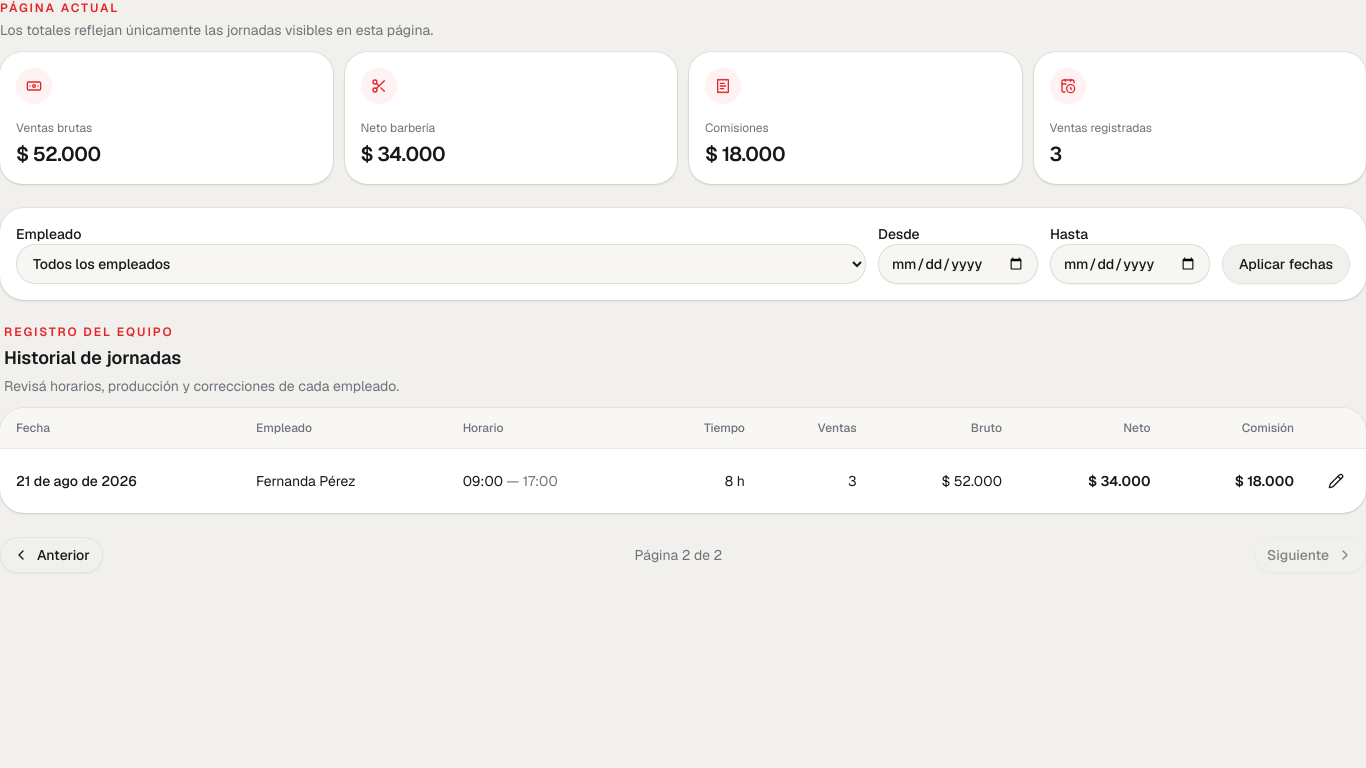
Test: falls back to the last valid page when correction contracts pagination
Click the button named "corregir jornada de fernanda pérez" at (1336, 481), box x1=1318 y1=463 x2=1354 y2=499
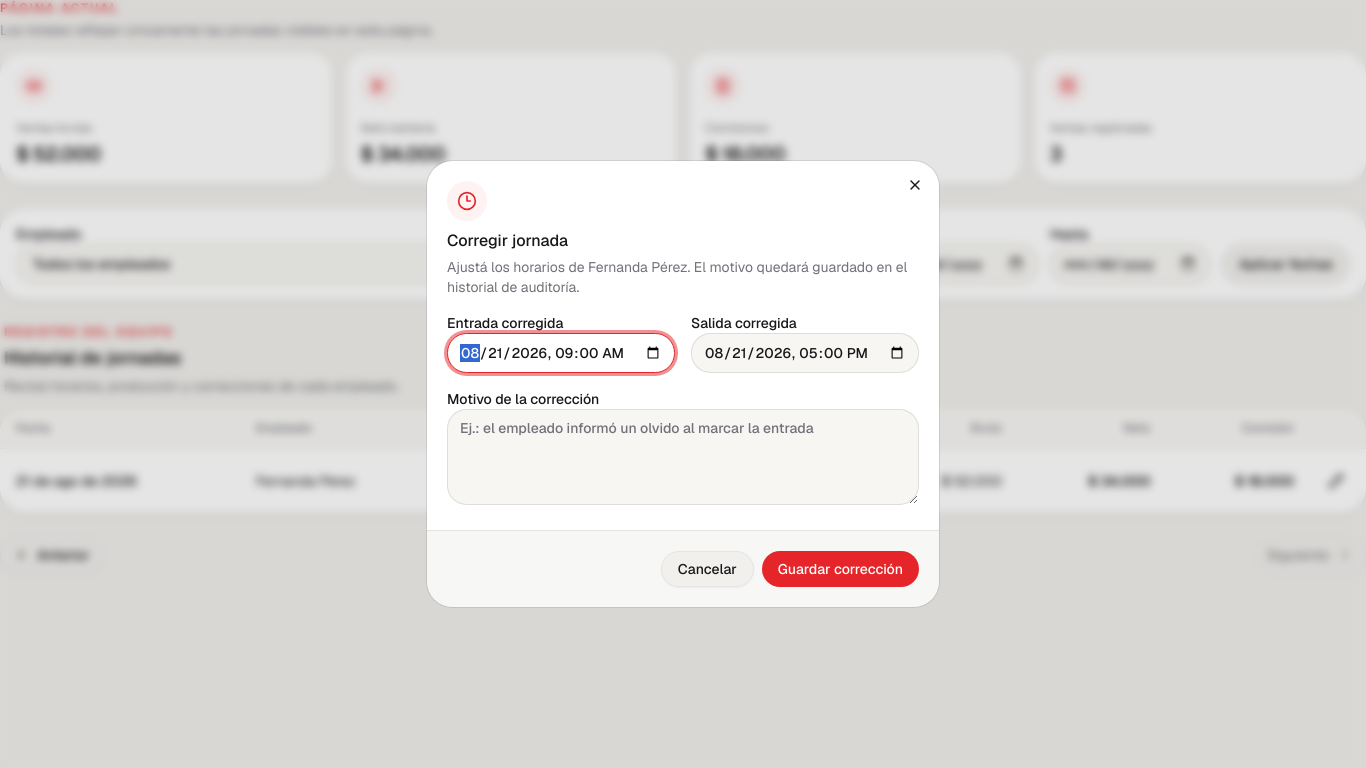
Type "La jornada cambió de fecha" into the text box labelled "Motivo de la corrección" at (683, 457), box x1=447 y1=409 x2=919 y2=505
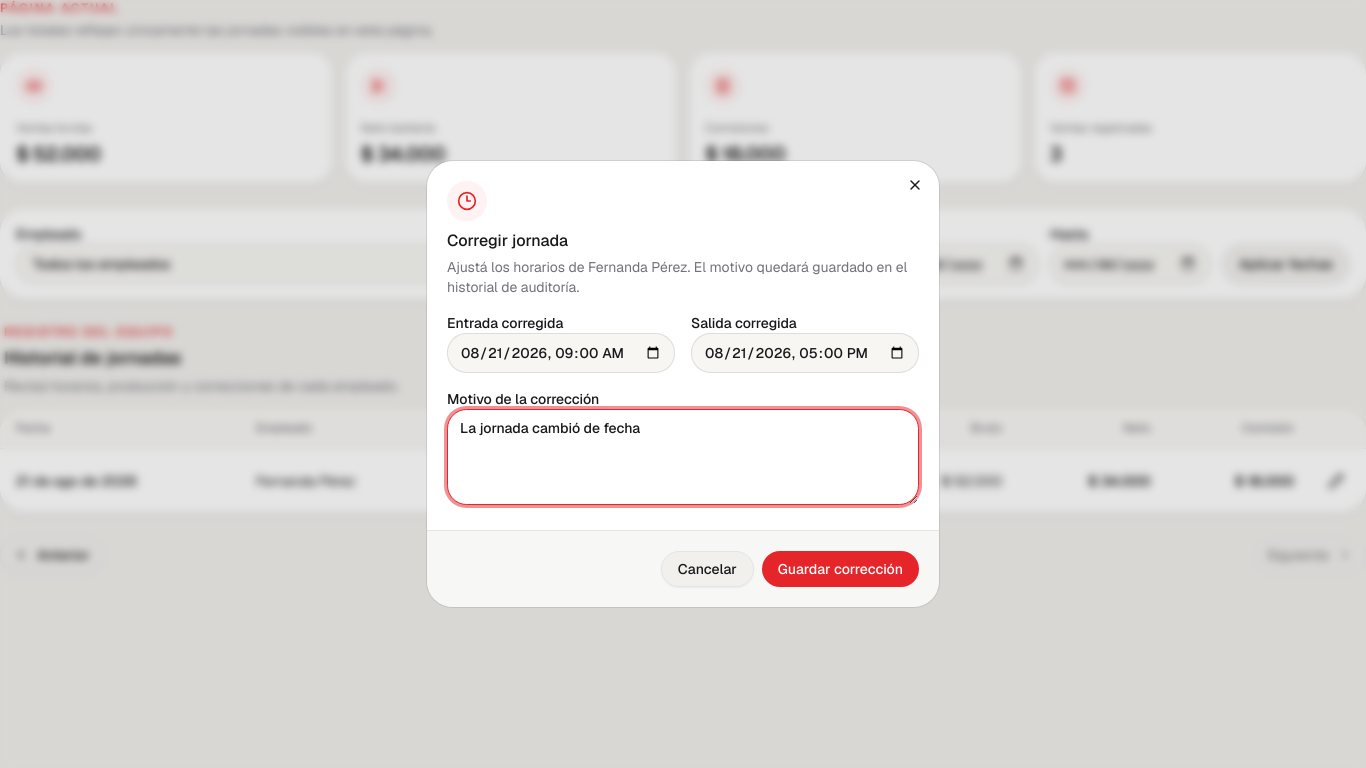
Click the button "Guardar corrección" at (840, 569), box x1=762 y1=551 x2=919 y2=587
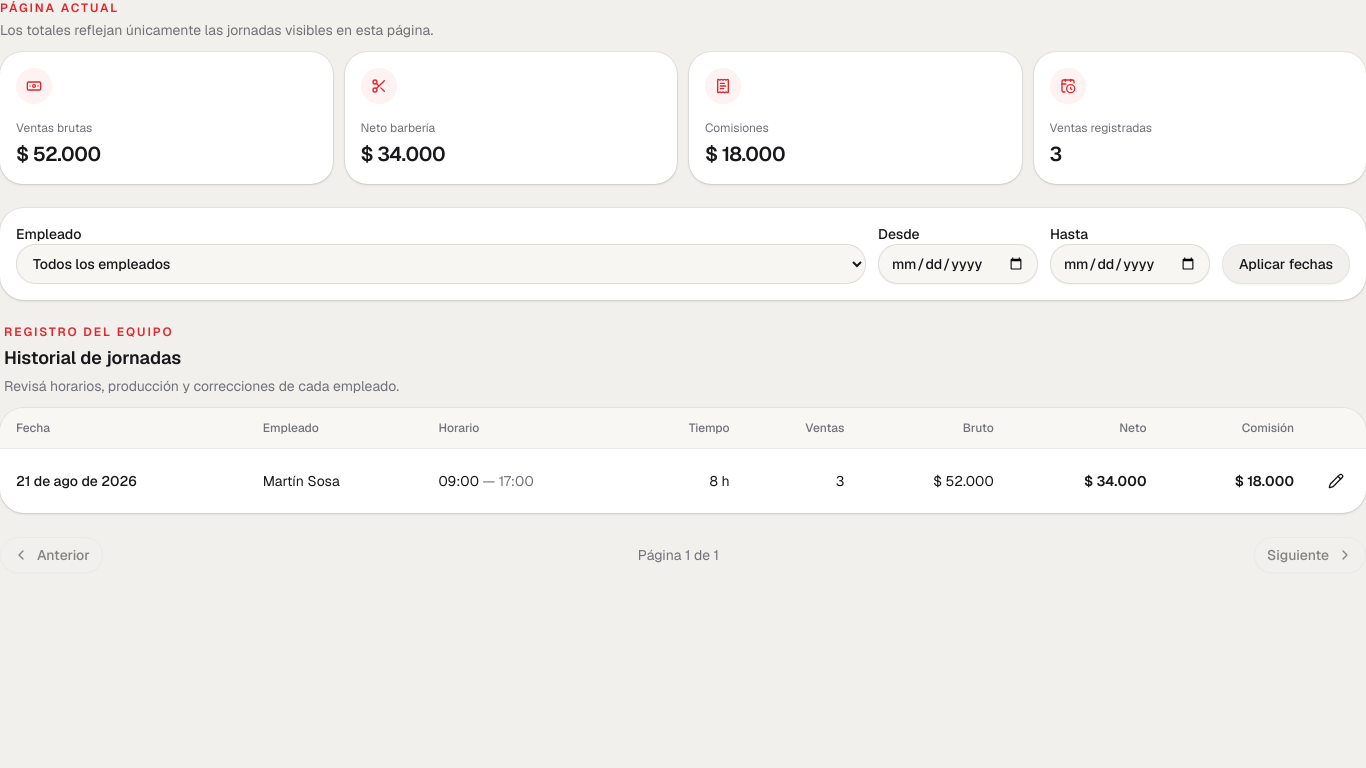
Now the text "Página 1 de 1" is shown, box x1=638 y1=545 x2=719 y2=565
